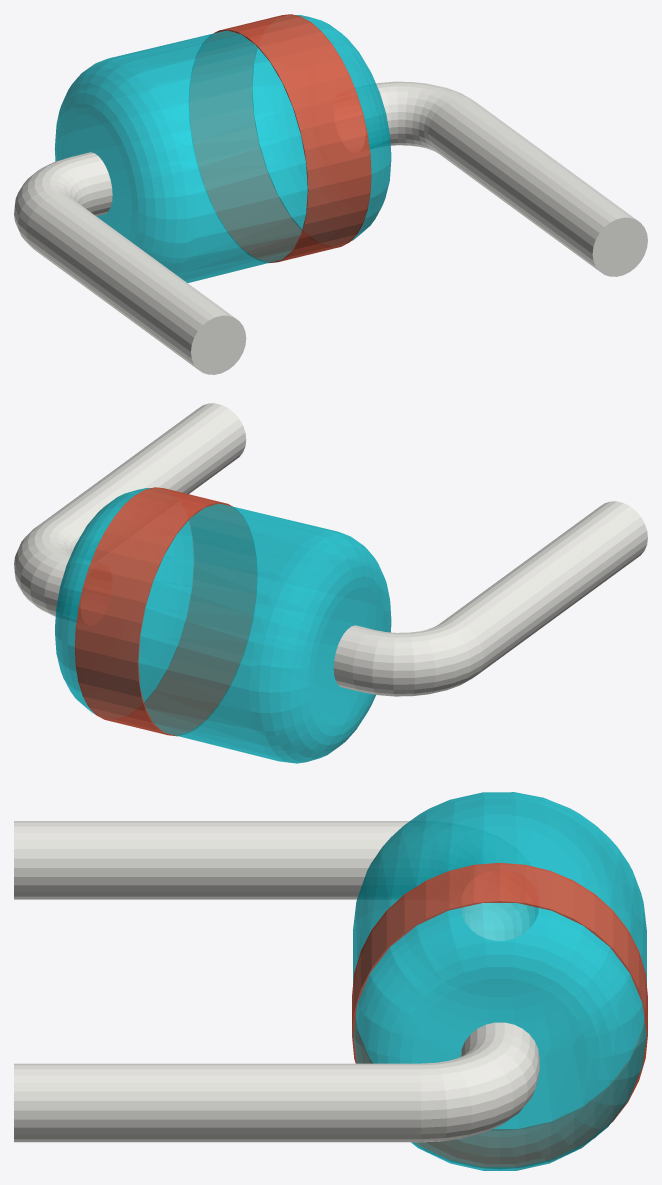
Rendered from D_T-1_P5.08mm_Horizontal.glb.
3 views of the same model, one above another, from view 1: azimuth 30°, elevation 25°; view 2: azimuth 150°, elevation 25°; view 3: azimuth 270°, elevation 25° (orthographic). The views are drawn at different scales.
Visible parts, largest first — view 1: Shape_IndexedFaceSet.004, Shape_IndexedFaceSet, Shape_IndexedFaceSet.006, Shape_IndexedFaceSet.014, Shape_IndexedFaceSet.011, Shape_IndexedFaceSet.003, Shape_IndexedFaceSet.009, Shape_IndexedFaceSet.008, Shape_IndexedFaceSet.012, Shape_IndexedFaceSet.013, Shape_IndexedFaceSet.015, Shape_IndexedFaceSet.005 (+2 smaller); view 2: Shape_IndexedFaceSet.004, Shape_IndexedFaceSet, Shape_IndexedFaceSet.006, Shape_IndexedFaceSet.014, Shape_IndexedFaceSet.011, Shape_IndexedFaceSet.003, Shape_IndexedFaceSet.012, Shape_IndexedFaceSet.008, Shape_IndexedFaceSet.009, Shape_IndexedFaceSet.005, Shape_IndexedFaceSet.010, Shape_IndexedFaceSet.007; view 3: Shape_IndexedFaceSet.003, Shape_IndexedFaceSet.006, Shape_IndexedFaceSet.011, Shape_IndexedFaceSet.014, Shape_IndexedFaceSet.004, Shape_IndexedFaceSet, Shape_IndexedFaceSet.005, Shape_IndexedFaceSet.008, Shape_IndexedFaceSet.009, Shape_IndexedFaceSet.012, Shape_IndexedFaceSet.001, Shape_IndexedFaceSet.010 (+1 smaller).
Part boxes in pixels (box(x1,y1,x2,y2)): Shape_IndexedFaceSet.004: box(78, 30, 307, 282); Shape_IndexedFaceSet: box(189, 14, 371, 261); Shape_IndexedFaceSet.006: box(54, 57, 196, 277); Shape_IndexedFaceSet.014: box(26, 195, 235, 369); Shape_IndexedFaceSet.011: box(428, 97, 638, 270); Shape_IndexedFaceSet.003: box(252, 15, 391, 240); Shape_IndexedFaceSet.009: box(367, 81, 470, 152); Shape_IndexedFaceSet.008: box(61, 114, 132, 238); Shape_IndexedFaceSet.012: box(14, 157, 93, 248); Shape_IndexedFaceSet.013: box(592, 217, 647, 276); Shape_IndexedFaceSet.015: box(191, 315, 246, 374); Shape_IndexedFaceSet.005: box(338, 53, 384, 187); Shape_IndexedFaceSet.004: box(138, 503, 367, 761); Shape_IndexedFaceSet: box(74, 487, 256, 735); Shape_IndexedFaceSet.006: box(249, 531, 391, 763); Shape_IndexedFaceSet.014: box(440, 501, 647, 674); Shape_IndexedFaceSet.011: box(37, 403, 246, 559); Shape_IndexedFaceSet.003: box(55, 488, 193, 713); Shape_IndexedFaceSet.012: box(352, 621, 483, 696); Shape_IndexedFaceSet.008: box(314, 587, 385, 725); Shape_IndexedFaceSet.009: box(14, 523, 80, 619); Shape_IndexedFaceSet.005: box(61, 526, 107, 660); Shape_IndexedFaceSet.010: box(333, 625, 373, 691); Shape_IndexedFaceSet.007: box(62, 559, 90, 621); Shape_IndexedFaceSet.003: box(353, 903, 646, 1170); Shape_IndexedFaceSet.006: box(353, 792, 646, 1057); Shape_IndexedFaceSet.011: box(14, 1063, 420, 1142); Shape_IndexedFaceSet.014: box(14, 821, 420, 899); Shape_IndexedFaceSet.004: box(353, 797, 646, 1128); Shape_IndexedFaceSet: box(352, 862, 647, 1166); Shape_IndexedFaceSet.005: box(412, 978, 587, 1137); Shape_IndexedFaceSet.008: box(414, 826, 585, 984); Shape_IndexedFaceSet.009: box(421, 1034, 539, 1142); Shape_IndexedFaceSet.012: box(421, 821, 535, 928); Shape_IndexedFaceSet.001: box(352, 901, 647, 1138); Shape_IndexedFaceSet.010: box(461, 859, 538, 940).
Bounding box in the file's own units: 2.28 × 1.03 × 2.21.
